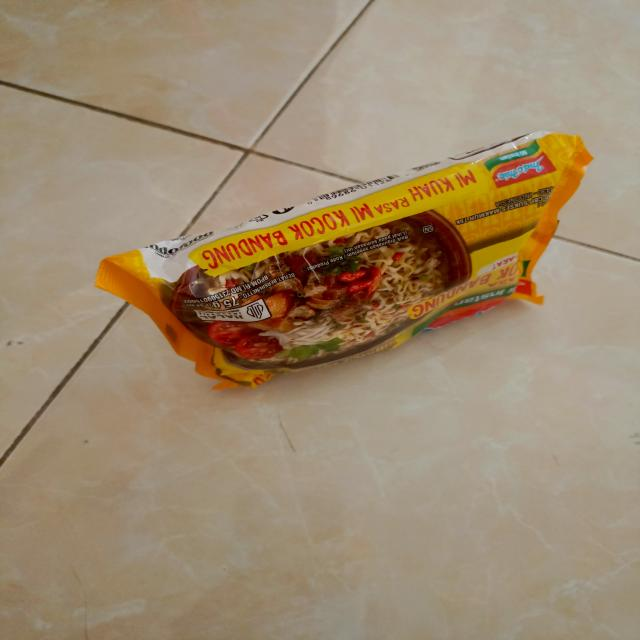indomie-mie-kocok-bandung: (93, 132, 596, 394)
